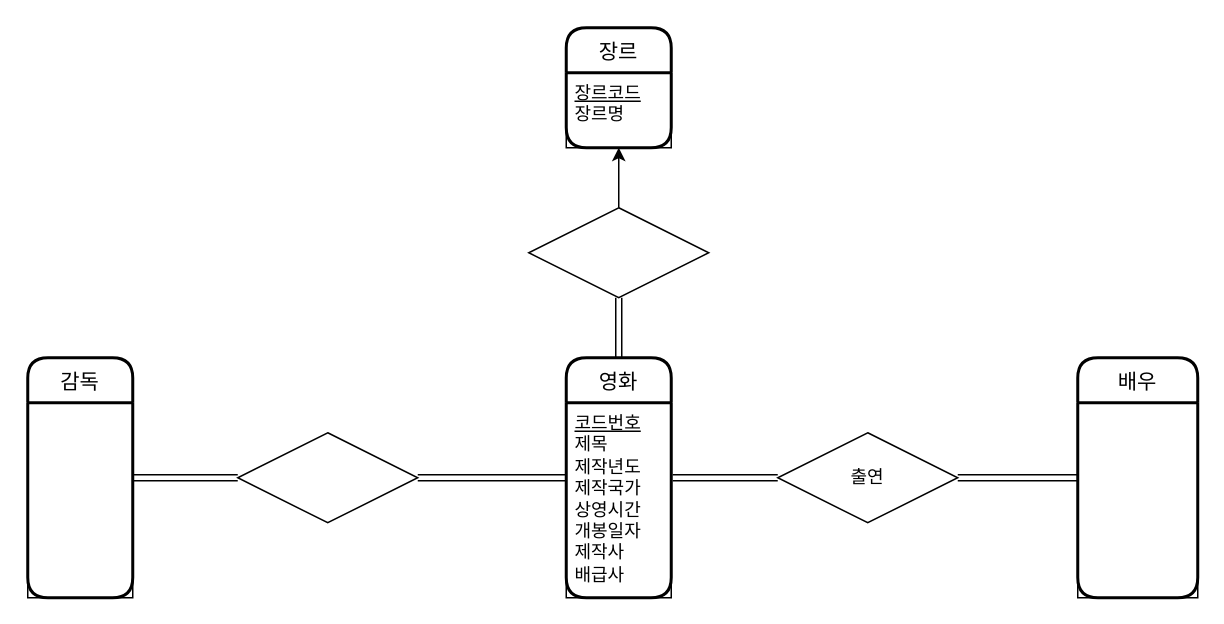
This 1224x624 diagram has some shape labels left out. The box of each missing label's shape, as (x1, y1, x2, y2) in pixels:
등록번호 이름 성별 출생일 출생지 학력사항: (26, 401, 133, 598)
배우번호 생년월일 이름 성별 출생지 키 몸무게 혈액형: (1076, 401, 1198, 598)
부여: (527, 206, 709, 298)
참여: (236, 431, 418, 523)
